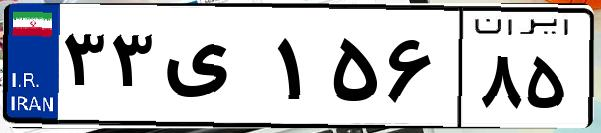1: (270, 28, 330, 110)
3: (57, 26, 110, 100), (110, 28, 158, 98)
5: (330, 28, 385, 110), (525, 38, 570, 115)
6: (385, 28, 445, 110)
8: (475, 38, 525, 113)
ی: (158, 20, 270, 120)
